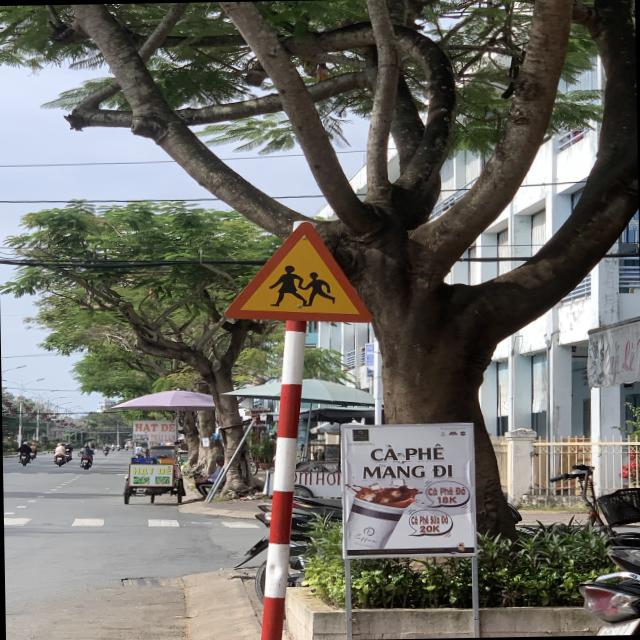Vong_Xuyen: (219, 220, 373, 324)
